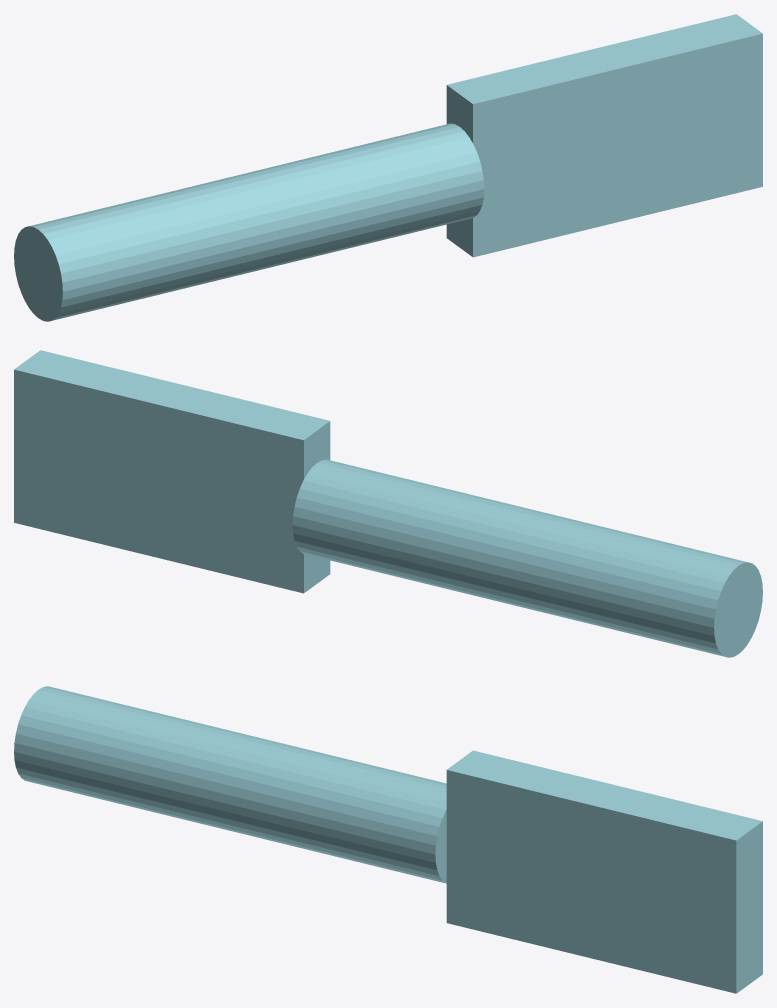
The model's file is cylinder_spatula_v6002.obj.
The picture shows the model from 3 angles, top to bottom: view 1: azimuth 30°, elevation 25°; view 2: azimuth 150°, elevation 25°; view 3: azimuth 330°, elevation 25°; orthographic projection.
Bounding box in the file's own units: 0.3113 × 0.0641 × 0.0371.
Materials: 1 (1 with a texture image).
